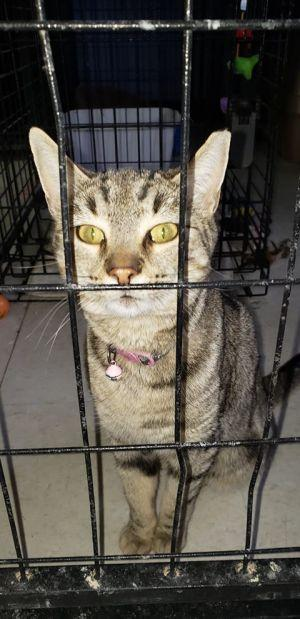bengal: (19, 116, 247, 330)
